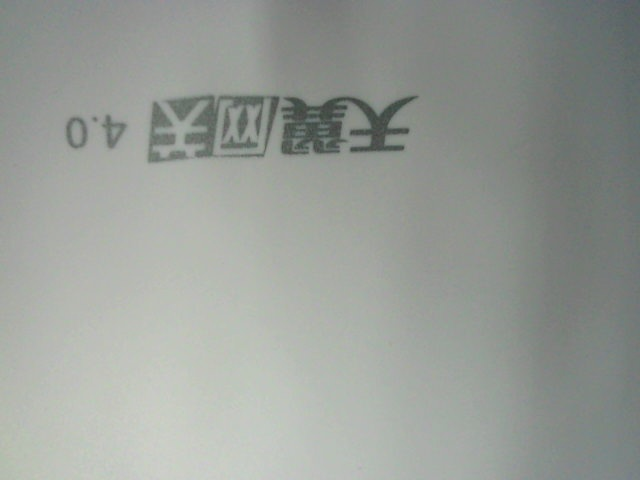BM_TianYiWangGuan: (58, 83, 422, 167)
